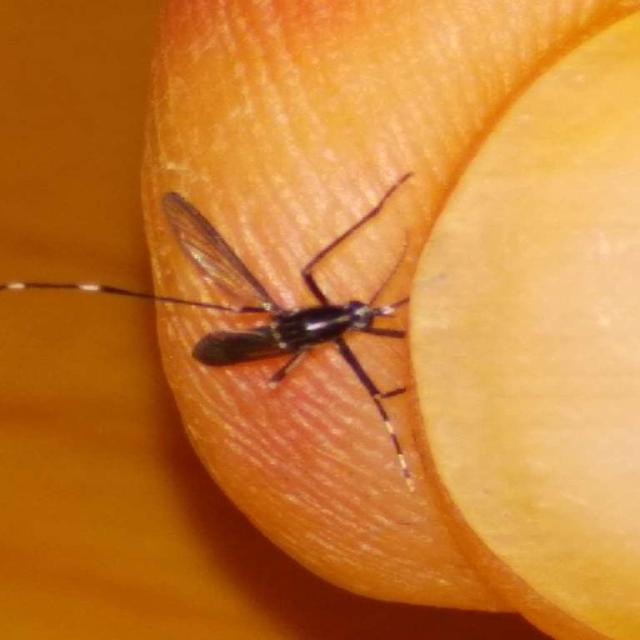albopictus: (42, 173, 465, 494)
